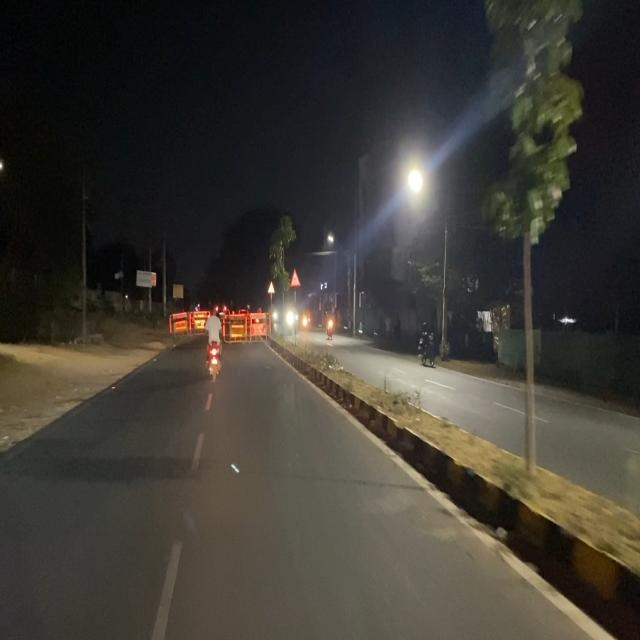bien_nguy_hiem: (290, 266, 301, 288)
